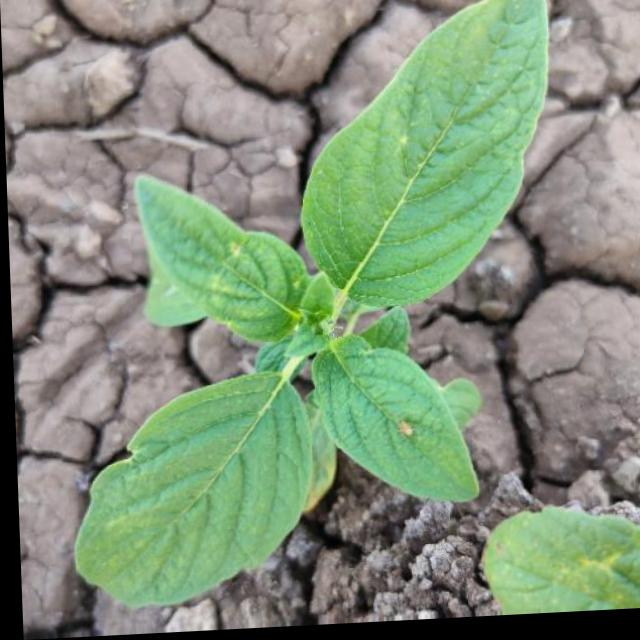crop: (36, 0, 572, 638)
